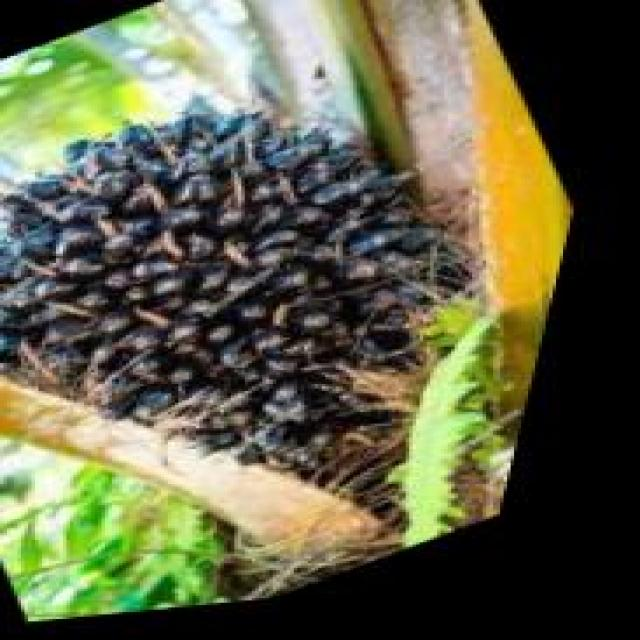Unripe: (0, 14, 630, 640)
